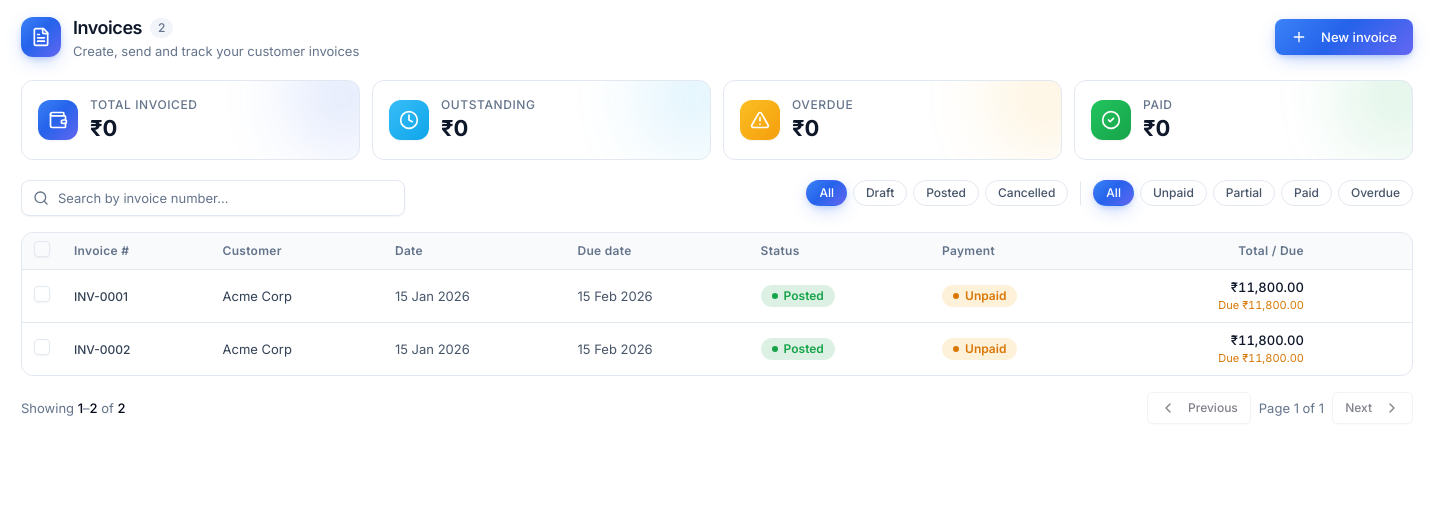
InvoicesView › disables Record payment when the selection spans multiple customers
This screenshot has width=1435, height=515.
Click the checkbox named "Select INV-0001" at (42, 294), box [34,286,50,302]
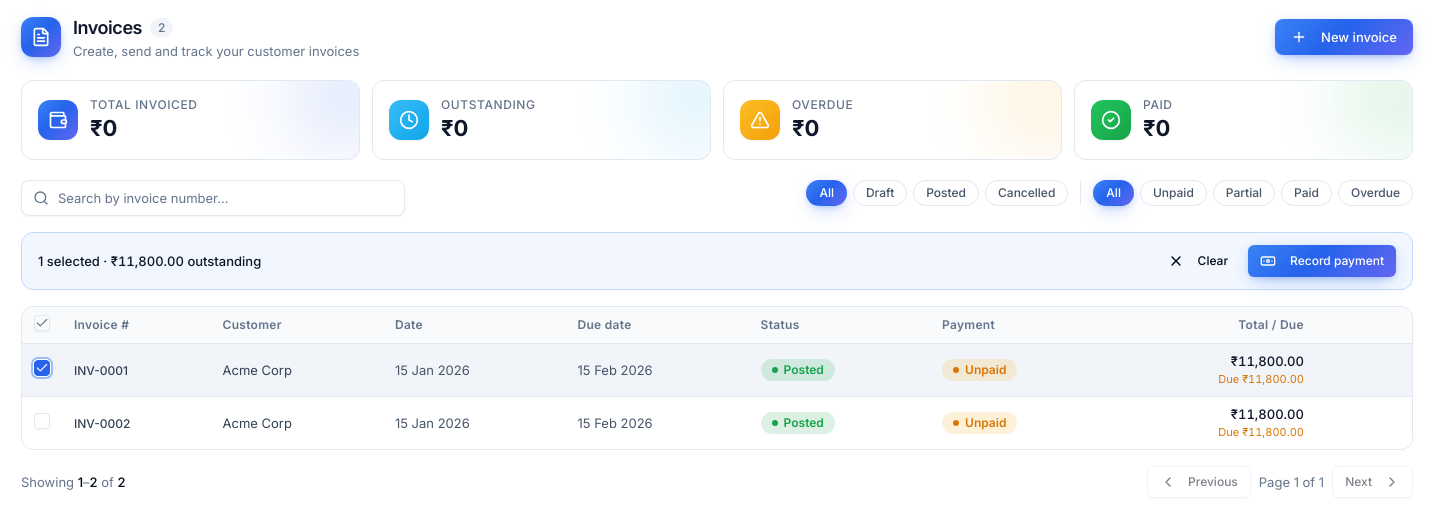
Click the checkbox named "Select INV-0002" at (42, 421), box [34,413,50,429]
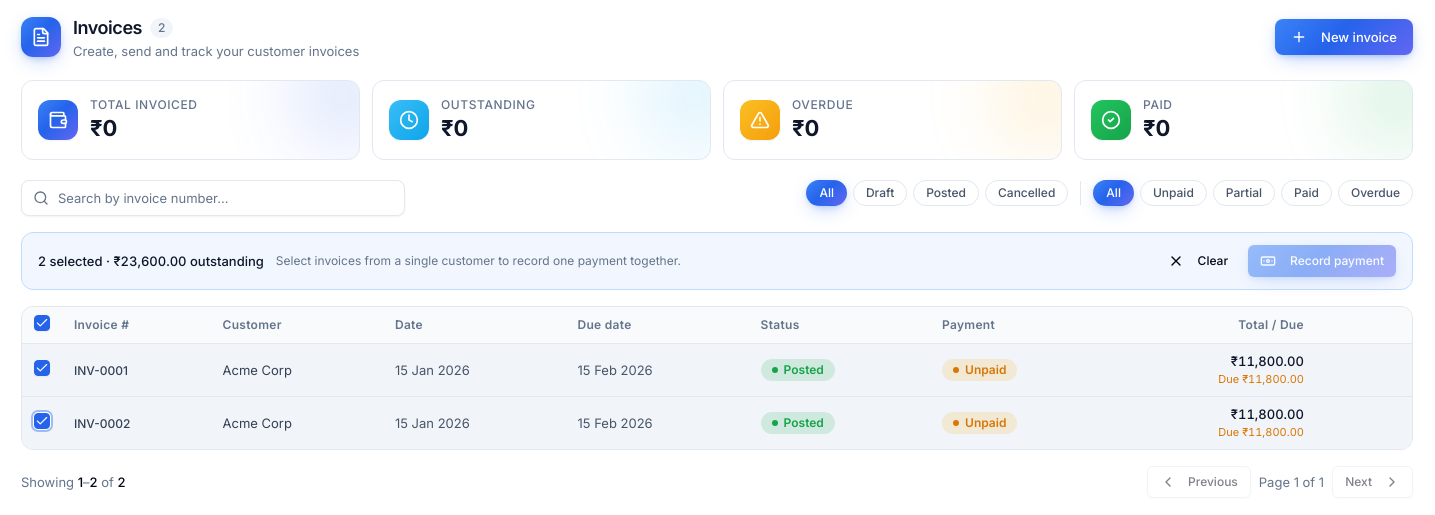
Expected: the button "Record payment" is disabled, [1248,245,1396,277]
Expected: the text "single customer to record one payment" is shown, [276,253,681,268]
